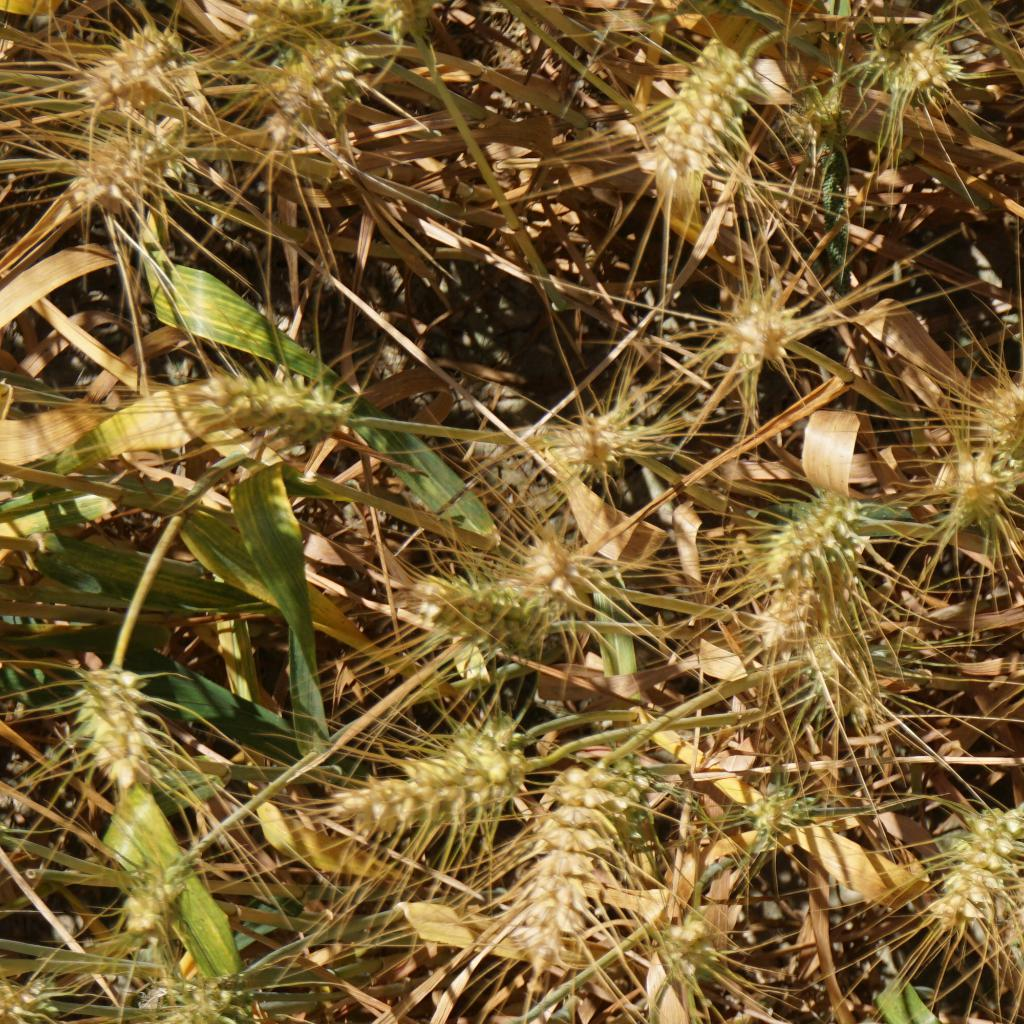0-0: (512, 744, 658, 979), (320, 723, 525, 839), (733, 499, 866, 665), (649, 22, 745, 205), (49, 647, 152, 787), (409, 566, 565, 655), (188, 371, 357, 451), (778, 622, 900, 730), (942, 792, 1014, 935), (82, 25, 207, 98), (62, 124, 173, 201), (933, 450, 1024, 536), (269, 53, 348, 141), (954, 365, 1024, 459), (524, 414, 622, 467), (102, 863, 185, 925), (873, 32, 951, 95), (656, 918, 725, 984), (143, 979, 235, 1024), (243, 0, 368, 32), (729, 301, 795, 360), (779, 78, 835, 144), (369, 0, 442, 50), (520, 540, 586, 588), (745, 779, 809, 825), (1, 980, 67, 1024)
